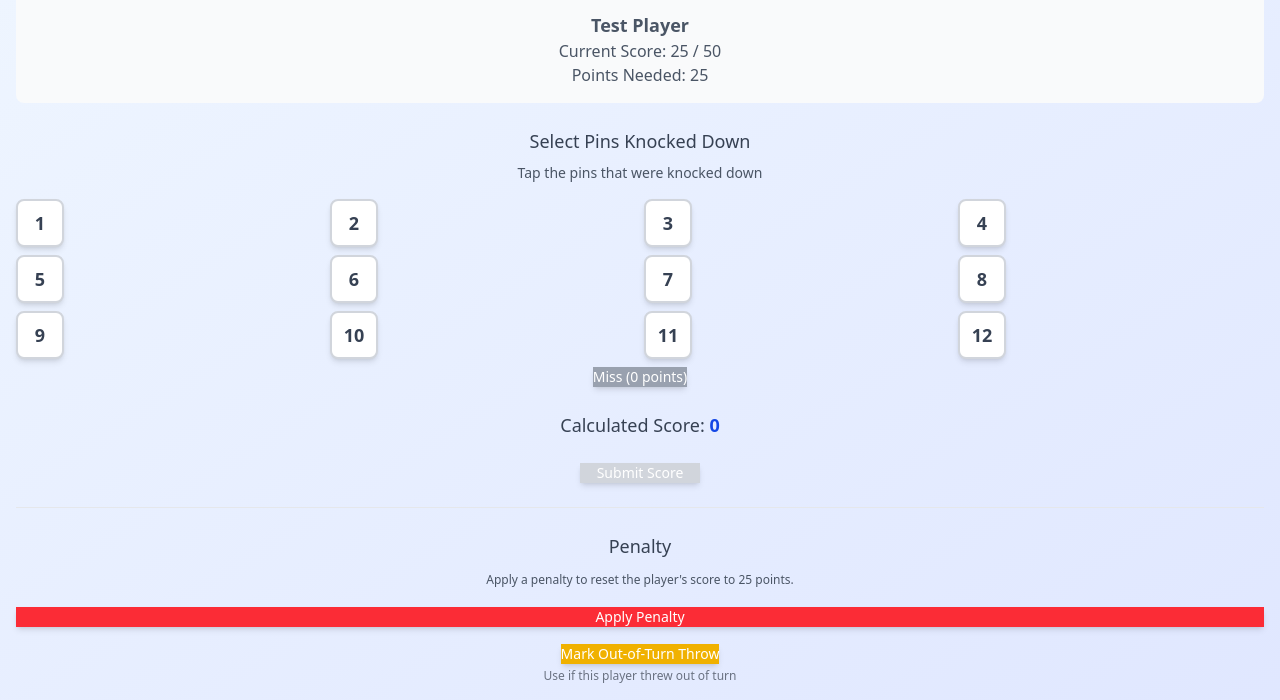
ScoreInput Component › Penalty Functionality › should show penalty confirmation modal when clicked
This screenshot has width=1280, height=700.
(page scrolled)
Click the button "Apply Penalty". click: (640, 617)
box: [16,607,1264,627]
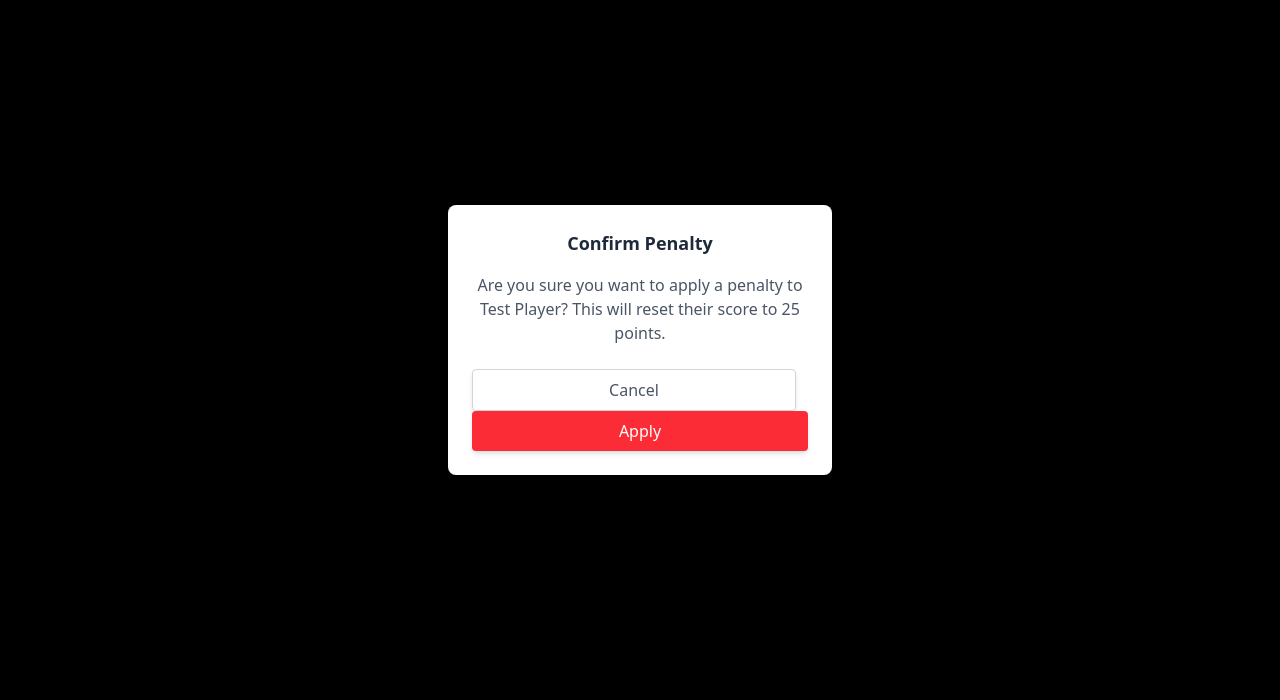
Expected: the heading "Confirm Penalty" is shown, [567,231,713,255]
Expected: the text "Are you sure you want to apply a penalty" is shown, [477,274,802,296]
